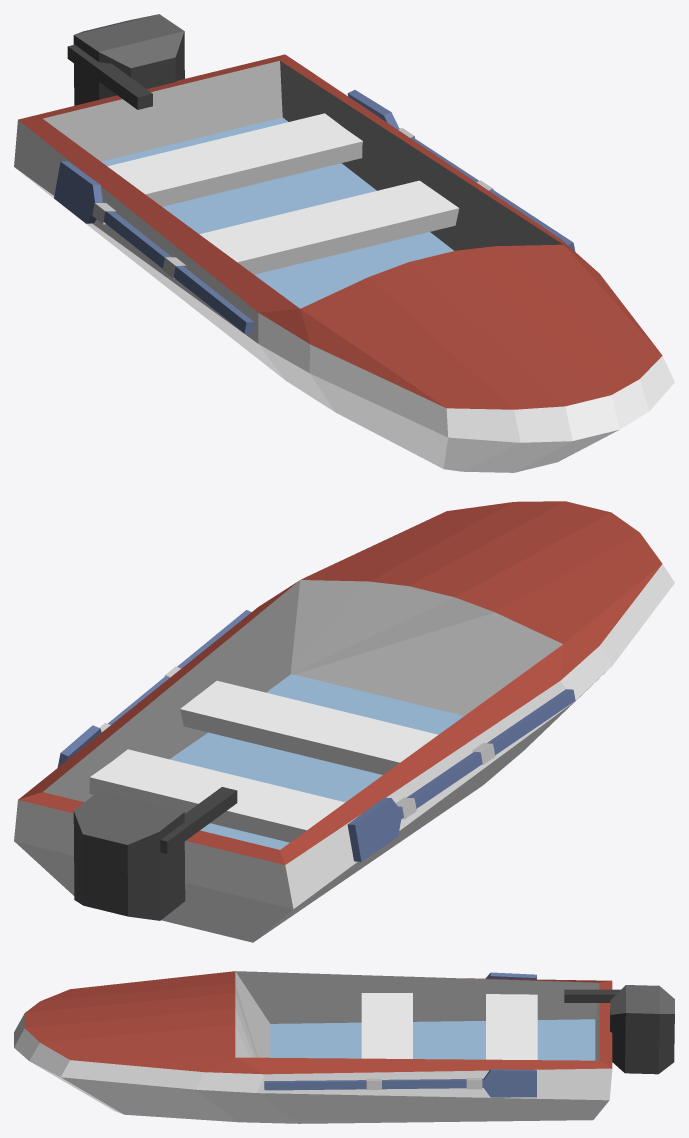
The model's file is transport_water_008.fbx.
The picture shows the model from 3 angles, top to bottom: view 1: azimuth 30°, elevation 25°; view 2: azimuth 150°, elevation 25°; view 3: azimuth 270°, elevation 25°; orthographic projection. The views are drawn at different scales.
Parts seen in each view (by area): view 1: transport_water_008; view 2: transport_water_008; view 3: transport_water_008.
Boxes of the visible parts, left/top/right/bottom form: transport_water_008: left=14, top=14, right=674, bottom=472; transport_water_008: left=14, top=501, right=674, bottom=942; transport_water_008: left=14, top=971, right=674, bottom=1123.
Bounding box in the file's own units: 184 × 72.85 × 472.
